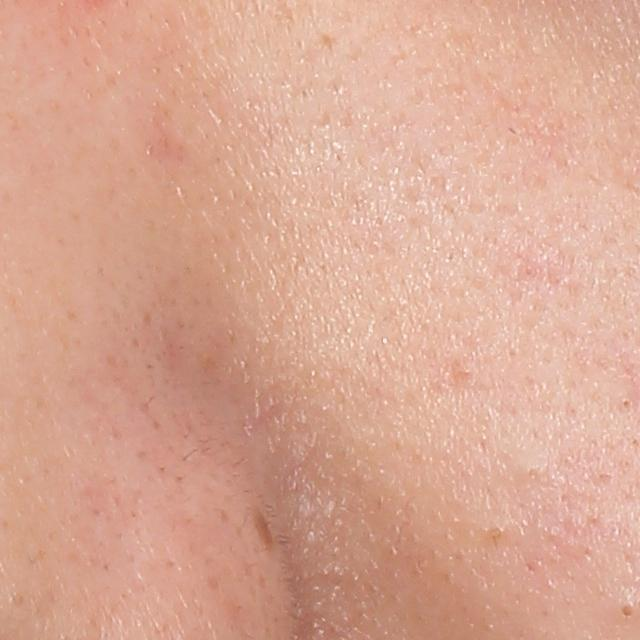comedo: (619, 599, 638, 621), (620, 396, 633, 410)
melasma: (250, 503, 278, 551)
